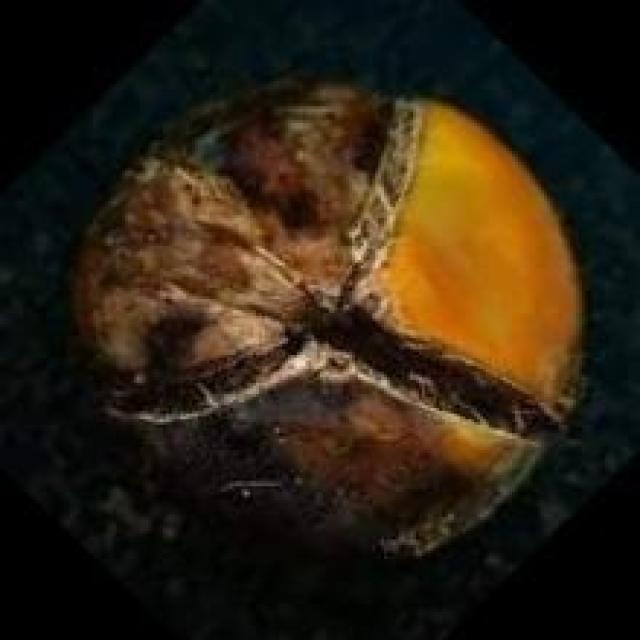damaged: (70, 75, 579, 556)
